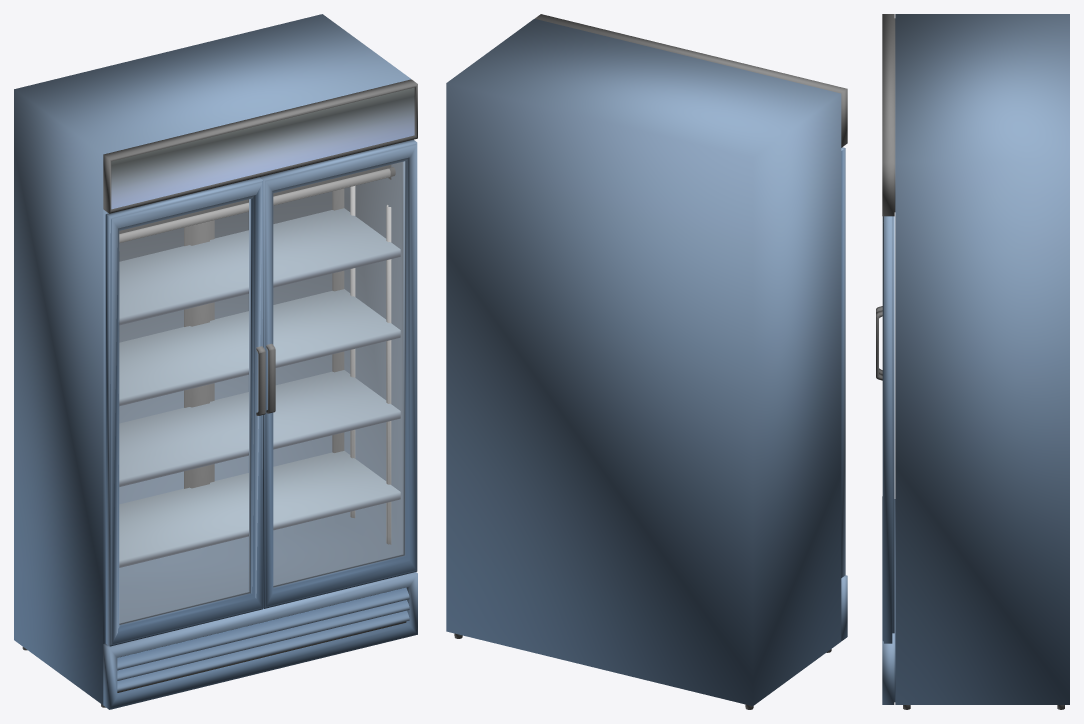
Rendered from fridge.fbx.
3 views of the same model, side by side, from view 1: azimuth 30°, elevation 25°; view 2: azimuth 150°, elevation 25°; view 3: azimuth 270°, elevation 25° (orthographic).
Visible parts, largest first — view 1: pCube1_lambert1_0.002, Glass_lambert3_0.002, Glass_lambert3_0.003, pCube5_lambert1_0.003, pCube5_lambert1_0.002; view 2: pCube1_lambert1_0.002, pCube5_lambert1_0.003; view 3: pCube1_lambert1_0.002, pCube5_lambert1_0.002.
Part boxes in pixels (left/top/right/bottom): pCube1_lambert1_0.002: left=14, top=14, right=417, bottom=709; Glass_lambert3_0.002: left=273, top=161, right=404, bottom=587; Glass_lambert3_0.003: left=119, top=199, right=249, bottom=624; pCube5_lambert1_0.003: left=105, top=177, right=265, bottom=646; pCube5_lambert1_0.002: left=260, top=139, right=417, bottom=608; pCube1_lambert1_0.002: left=446, top=14, right=847, bottom=709; pCube5_lambert1_0.003: left=841, top=147, right=845, bottom=577; pCube1_lambert1_0.002: left=882, top=14, right=1069, bottom=709; pCube5_lambert1_0.002: left=876, top=216, right=894, bottom=643.
Bounding box in the file's own units: 39.36 × 68.01 × 21.74.
Materials: 2 (1 with a texture image).
